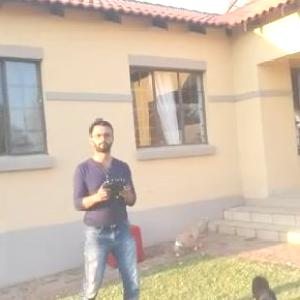follow: (68, 112, 152, 299)
null: (170, 213, 214, 261), (250, 274, 284, 299)
